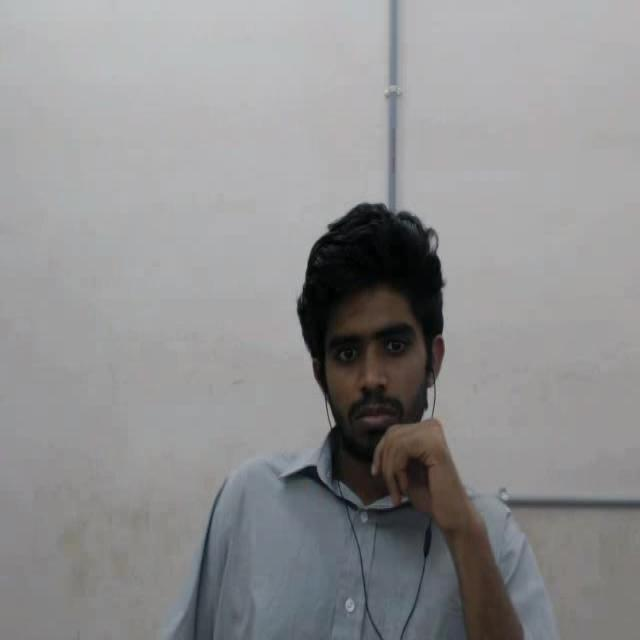Bored: (278, 198, 496, 506)
